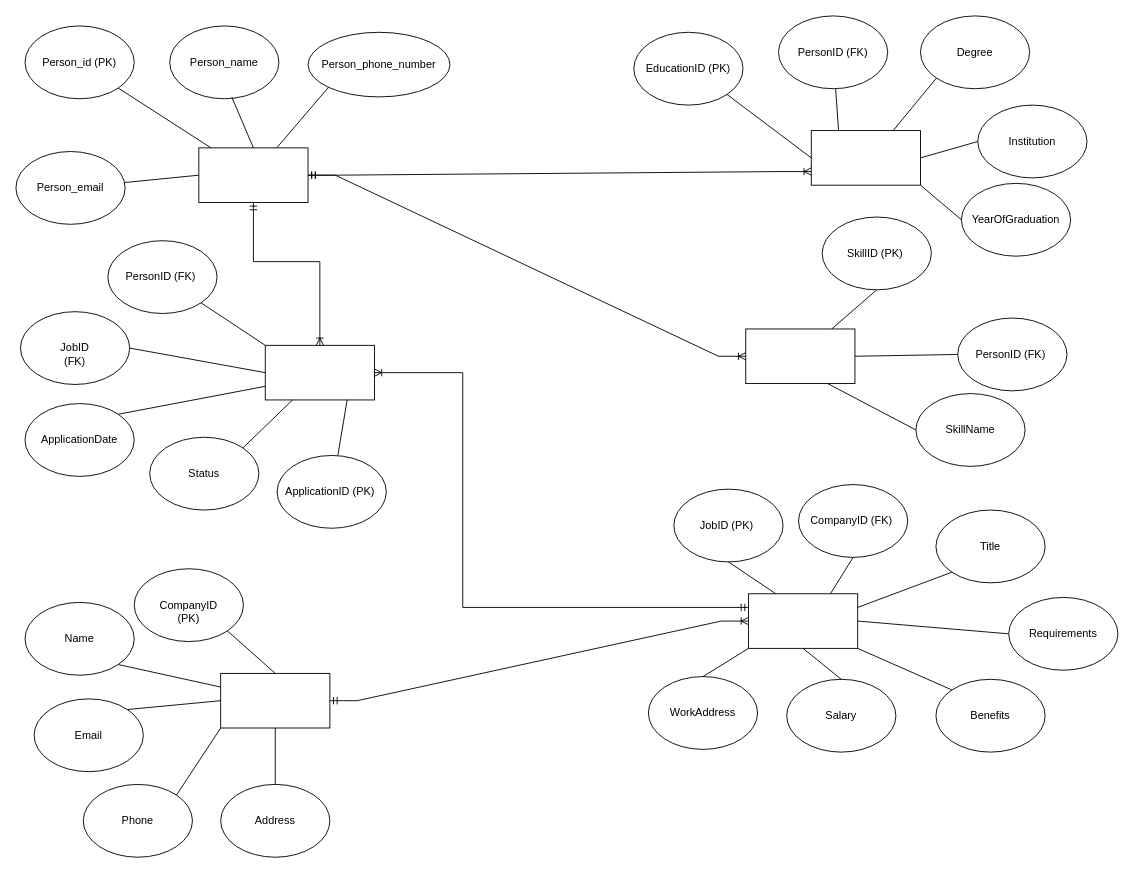
Image size: 1134x874. Some labels were removed from this diagram. Each missing label, with the box of its shape:
Application: (264, 344, 374, 400)
Company: (220, 672, 330, 728)
Education: (810, 130, 920, 185)
Job: (748, 593, 858, 648)
Person: (198, 147, 308, 202)
Skill: (745, 328, 855, 384)
